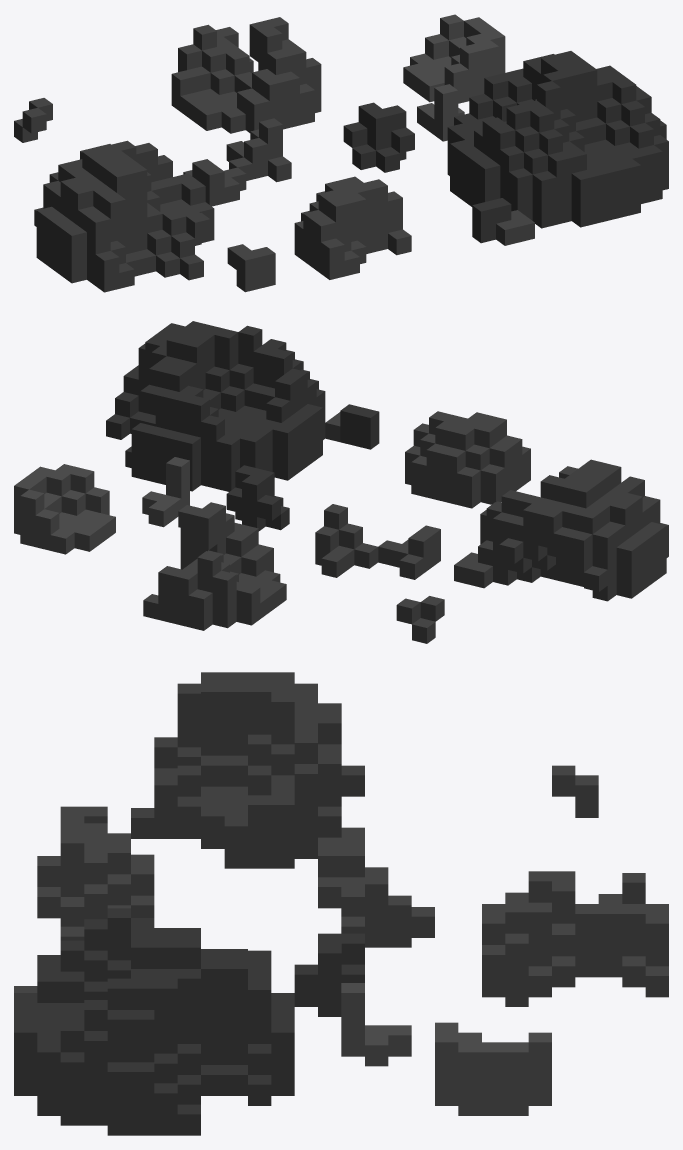
File: rockbreack.obj
3 views of the same model, one above another, from view 1: azimuth 30°, elevation 25°; view 2: azimuth 150°, elevation 25°; view 3: azimuth 270°, elevation 25° (orthographic). The views are drawn at different scales.
Bounding box in the file's own units: 3.7 × 0.7 × 2.8.
